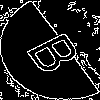B: (25, 25, 94, 78)
